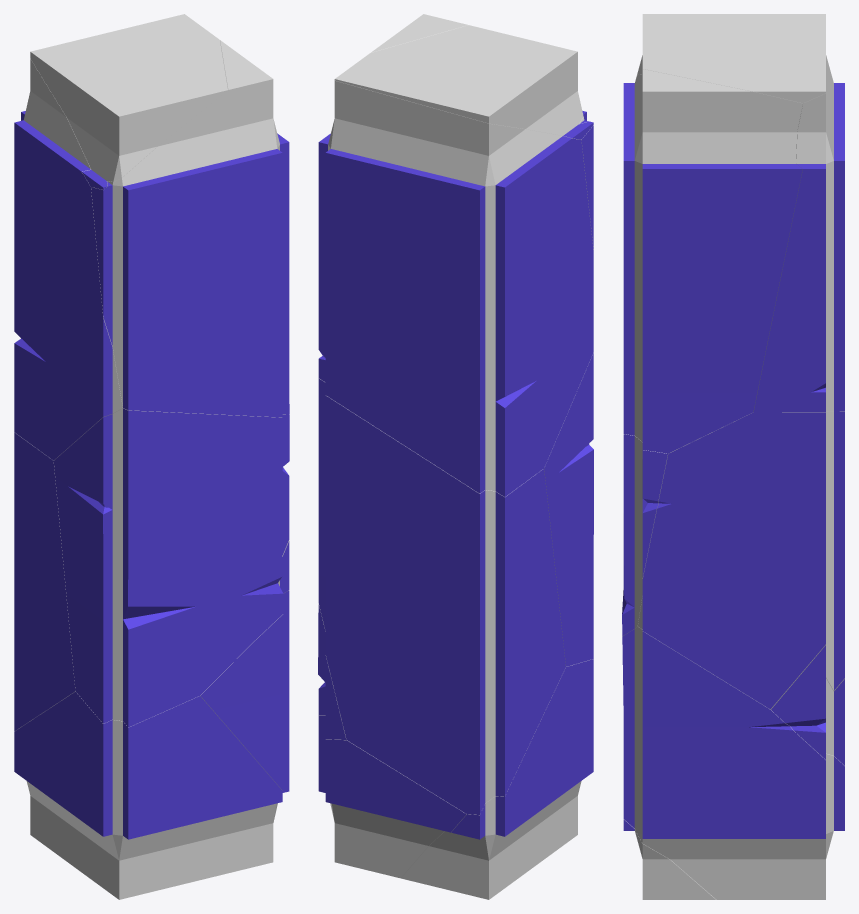
Rendered from Column concrete 8x2x2 Fractured.fbx.
3 views of the same model, side by side, from view 1: azimuth 30°, elevation 25°; view 2: azimuth 150°, elevation 25°; view 3: azimuth 270°, elevation 25° (orthographic). The views are drawn at different scales.
Visible parts, largest first — view 1: Column_cell.007, Column_cell.002, Column_cell.005, Column_cell.003, Column_cell.001, Column_cell.006, Column_cell.004; view 2: Column_cell.003, Column_cell.006, Column_cell.005, Column_cell.001, Column_cell.004, Column_cell.007, Column_cell.002, Column_cell; view 3: Column_cell.002, Column_cell.006, Column_cell.004, Column_cell.003, Column_cell.001, Column_cell.007, Column_cell, Column_cell.005.
Part boxes in pixels (x1,y1,x2,y2): Column_cell.007: (53, 408, 289, 727); Column_cell.002: (91, 40, 289, 417); Column_cell.005: (14, 691, 282, 899); Column_cell.003: (14, 59, 122, 460); Column_cell.001: (30, 14, 227, 189); Column_cell.006: (14, 432, 289, 731); Column_cell.004: (200, 590, 289, 792); Column_cell.003: (318, 81, 593, 496); Column_cell.006: (318, 378, 565, 814); Column_cell.005: (401, 659, 593, 899); Column_cell.001: (334, 25, 593, 139); Column_cell.004: (318, 715, 466, 878); Column_cell.007: (544, 353, 593, 666); Column_cell.002: (330, 14, 593, 249); Column_cell: (318, 604, 346, 739); Column_cell.002: (623, 69, 802, 453); Column_cell.006: (638, 411, 844, 709); Column_cell.004: (622, 626, 844, 899); Column_cell.003: (753, 55, 844, 412); Column_cell.001: (637, 14, 825, 103); Column_cell.007: (622, 434, 668, 636); Column_cell: (771, 645, 844, 765); Column_cell.005: (623, 819, 716, 899).
Size of the model in its own units: 2 by 8 by 2.
